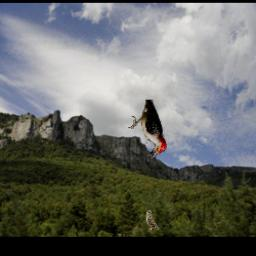Sparrow: (146, 210, 163, 233)
Woodpecker: (128, 101, 167, 160)
